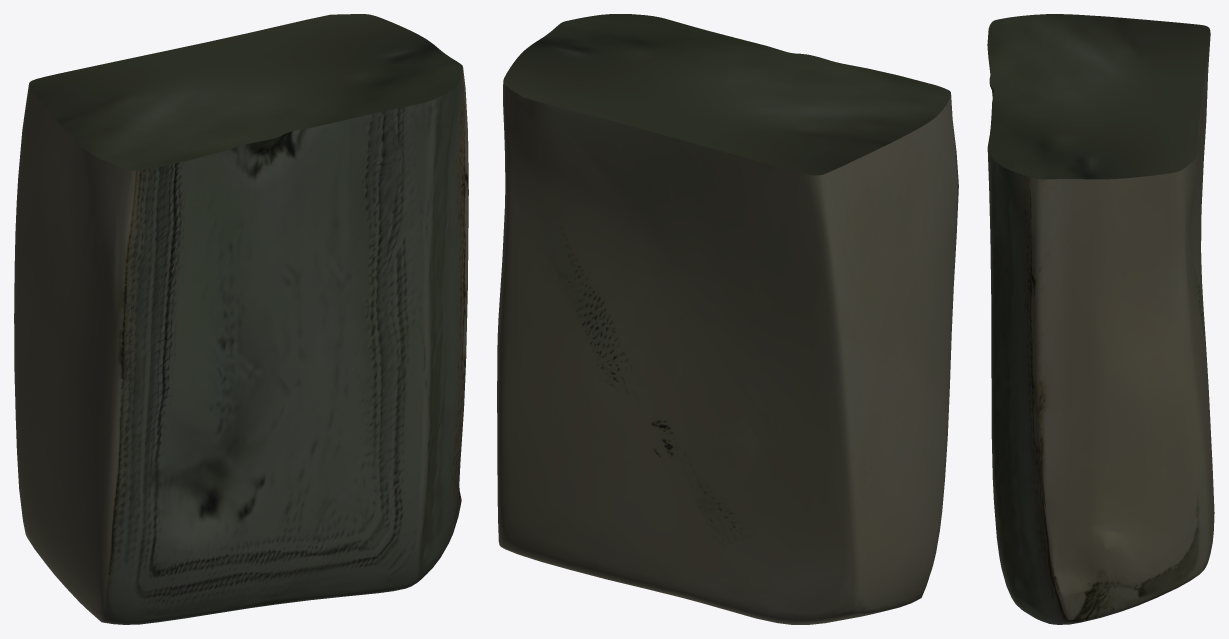
The model's file is DetachableSegment-Mated-LOD0.glb.
The picture shows the model from 3 angles, left to right: view 1: azimuth 30°, elevation 25°; view 2: azimuth 150°, elevation 25°; view 3: azimuth 270°, elevation 25°; orthographic projection. The views are drawn at different scales.
Parts seen in each view (by area): view 1: DetachableSegment_Joined_LOD0; view 2: DetachableSegment_Joined_LOD0; view 3: DetachableSegment_Joined_LOD0.
Part boxes in pixels (bbox=[...]): DetachableSegment_Joined_LOD0: bbox=[14, 14, 468, 624]; DetachableSegment_Joined_LOD0: bbox=[497, 14, 958, 624]; DetachableSegment_Joined_LOD0: bbox=[987, 14, 1214, 624].
Size of the model in its own units: 0.0145 by 0.018 by 0.00806.
Materials: 1 (1 with a texture image).
